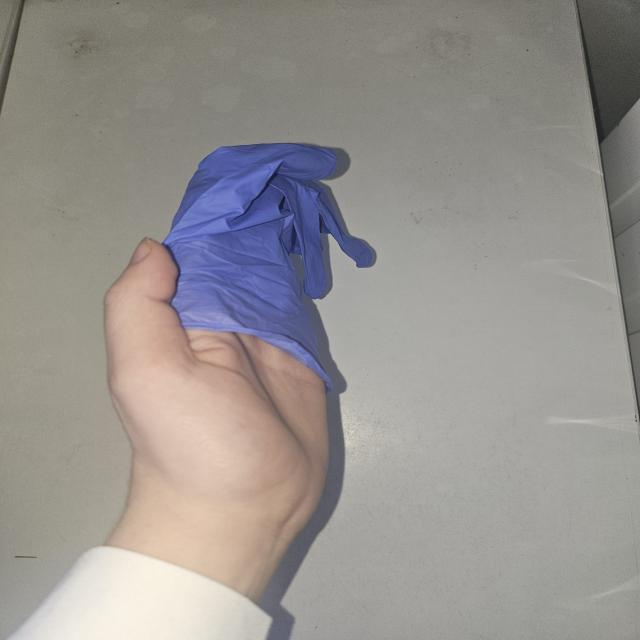glove_partial: (102, 142, 376, 550)
